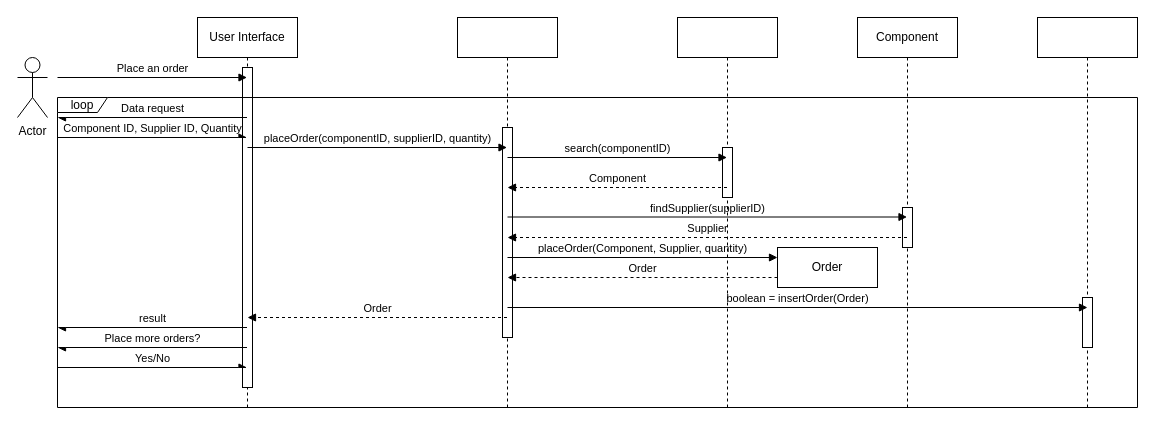
Image size: 1155x426. Some labels were removed from this diagram. The shapes that lost their labels are listed below. From the top down, each one's box as (x1, y1, x2, y2) in pixels, then its label:
(456, 16, 558, 128): Company
(676, 16, 778, 148): ComponentList
(1036, 16, 1138, 298): Orders
